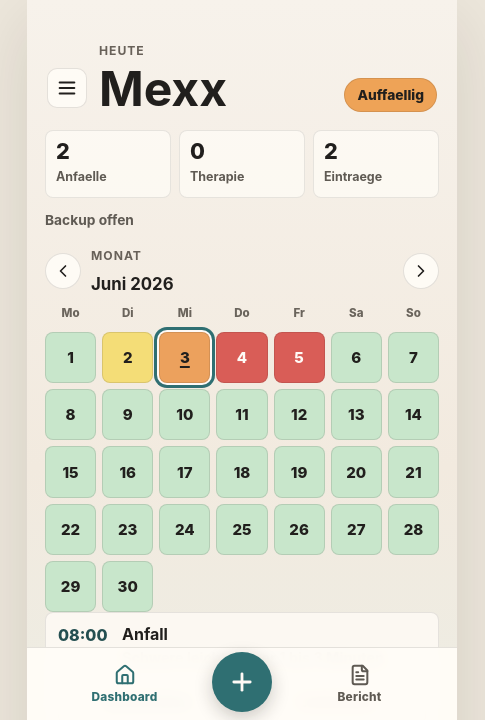
Scenario: DashboardScreen › lets the user page through months via the calendar header
This screenshot has width=485, height=720.
Expected: the heading "Juni 2026" is shown, left=91, top=274, right=174, bottom=294
What coordinates should you click on to do the following:
click the button named "Naechster Monat"
I would click on:
 (421, 271)
Its box is left=403, top=253, right=439, bottom=289.
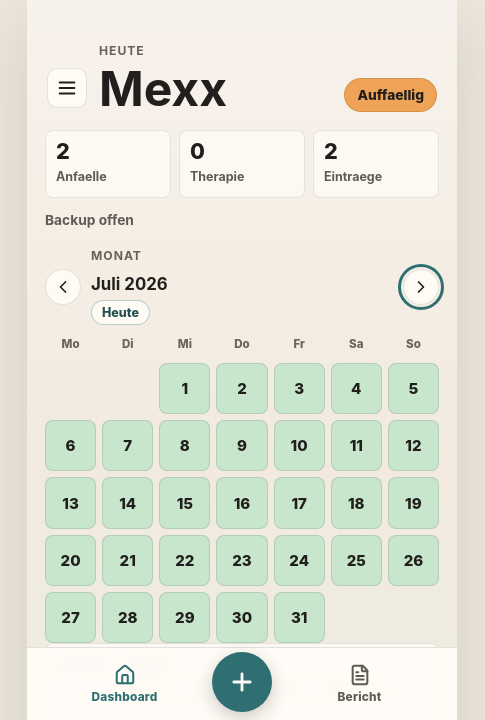
Result: the heading "Juli 2026" is shown at left=91, top=274, right=168, bottom=294
What coordinates should you click on to do the following:
click the button named "Vorheriger Monat"
I would click on:
 (63, 287)
Its box is left=45, top=269, right=81, bottom=305.
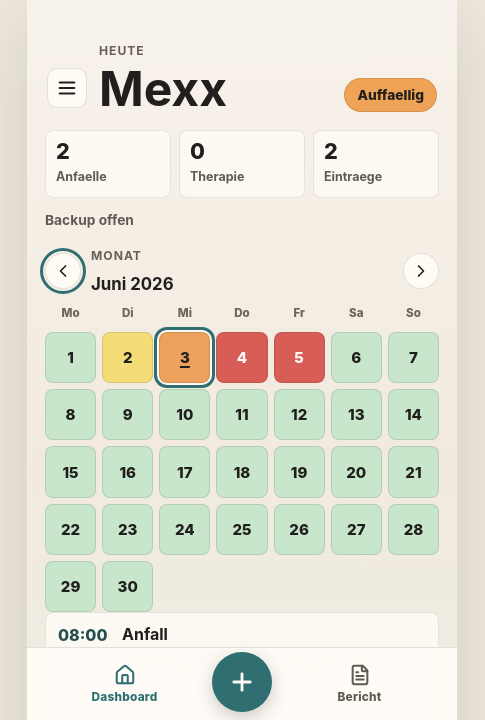
What coordinates should you click on to do the following:
click the button named "Vorheriger Monat"
I would click on:
 (63, 271)
Its box is left=45, top=253, right=81, bottom=289.
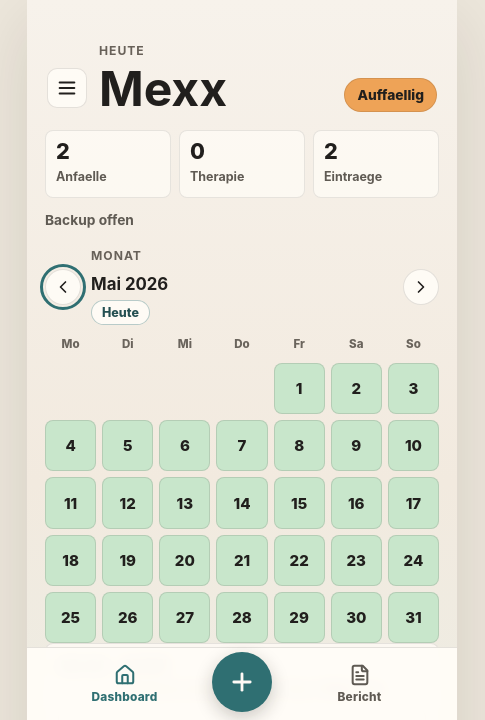
Result: the heading "Mai 2026" is shown at left=91, top=274, right=168, bottom=294
